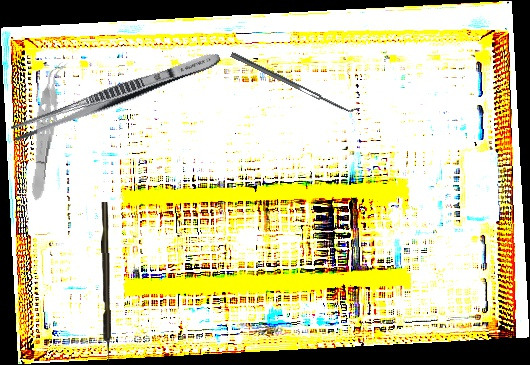Dressing Forceps: (10, 46, 223, 146)
Hook Surgical: (100, 201, 112, 362)
Spatula Surgical: (230, 47, 360, 118)
Tissue Forceps: (25, 58, 68, 203)
